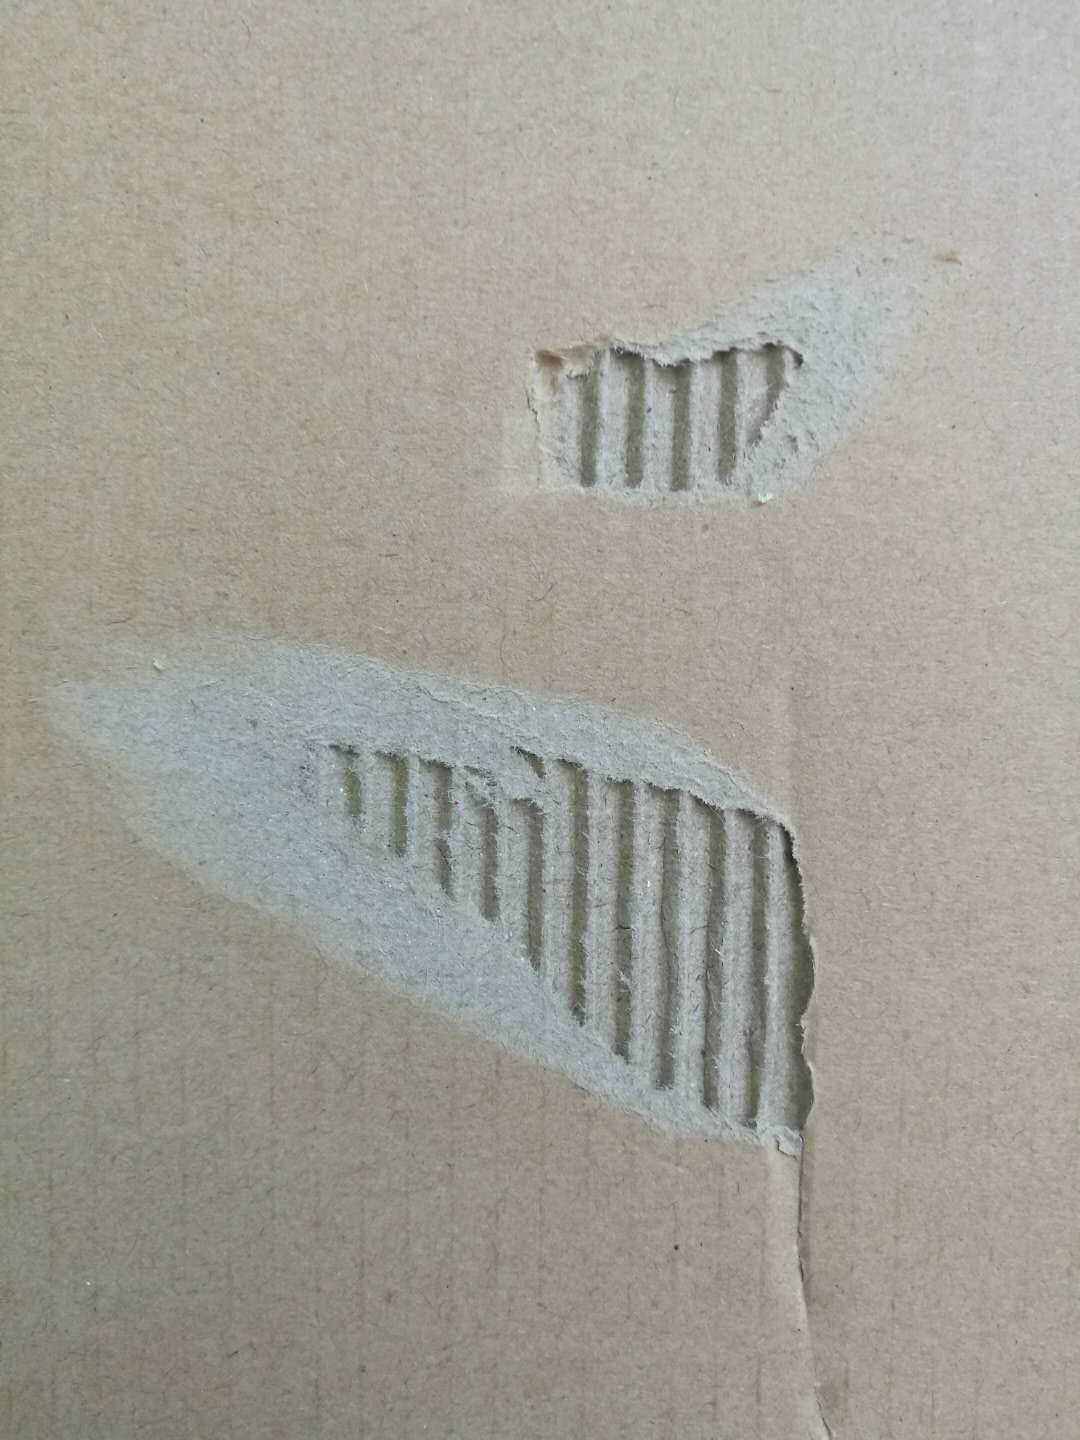defect: (28, 608, 857, 1178), (479, 215, 986, 541), (752, 1125, 880, 1440)
